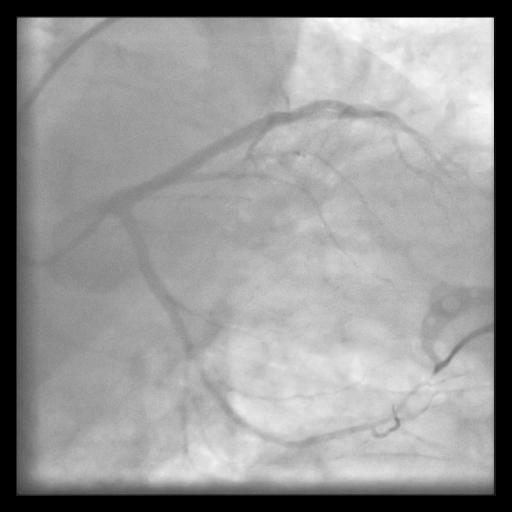Stenosis: (192, 348, 222, 399)
